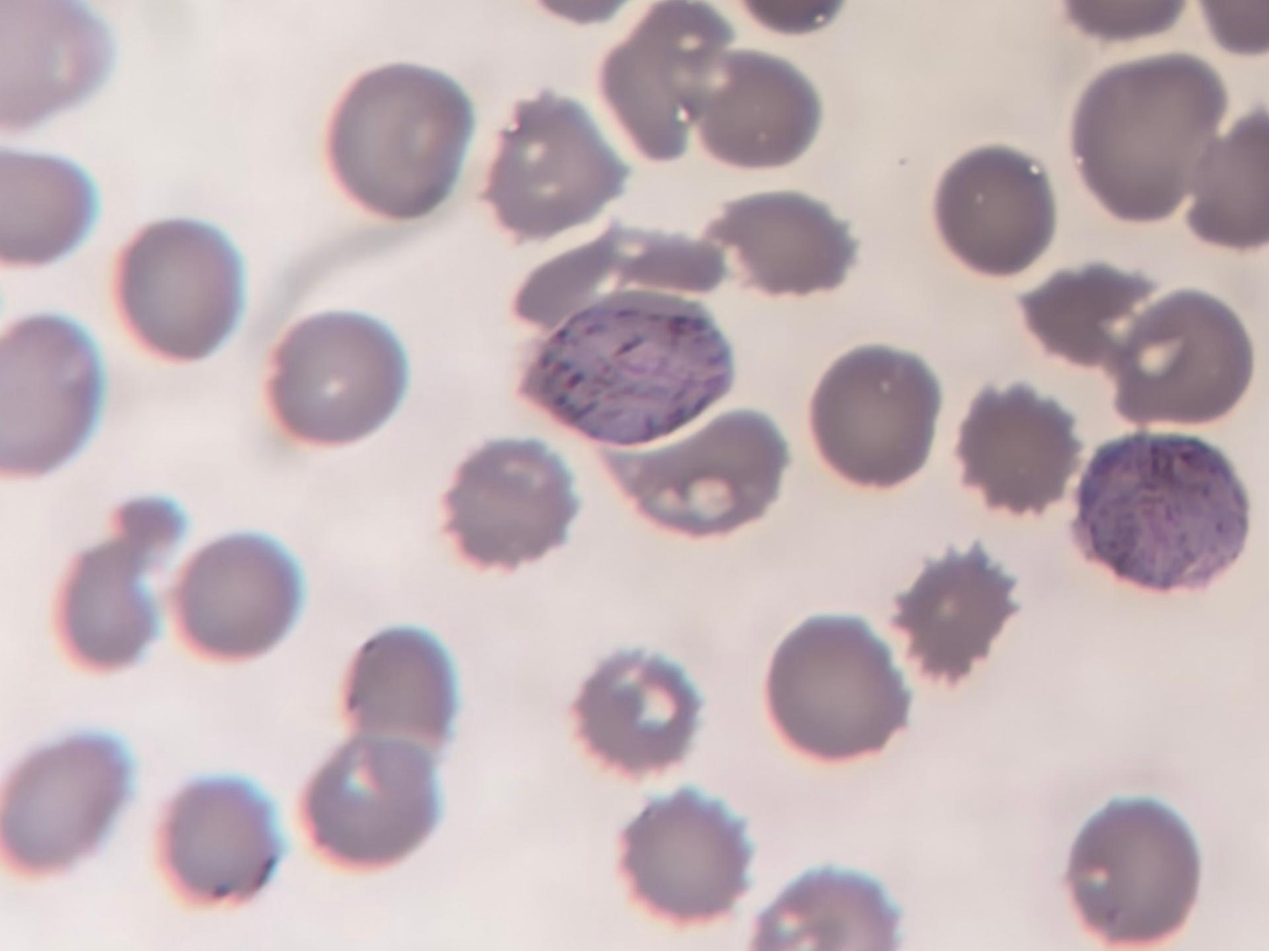Infected: (529, 294, 728, 443), (1076, 431, 1247, 588)
Uninfected: (1073, 55, 1223, 220), (609, 409, 785, 538), (597, 1, 733, 165), (328, 63, 471, 216), (57, 500, 181, 669), (765, 619, 905, 760), (482, 93, 621, 233), (1064, 800, 1199, 944), (810, 346, 941, 484), (1, 734, 131, 873), (892, 545, 1023, 682), (1110, 292, 1250, 420), (267, 313, 404, 443), (118, 217, 245, 357), (442, 437, 578, 566), (305, 736, 442, 864), (617, 790, 749, 921), (954, 382, 1081, 514), (574, 648, 705, 774), (174, 532, 303, 659), (685, 47, 817, 170), (1022, 261, 1162, 376), (1, 315, 102, 472), (707, 192, 853, 299), (161, 776, 283, 901), (939, 146, 1052, 276), (3, 0, 112, 129), (342, 628, 457, 745), (751, 866, 901, 950), (512, 229, 631, 328), (2, 146, 96, 265), (606, 226, 725, 297)
